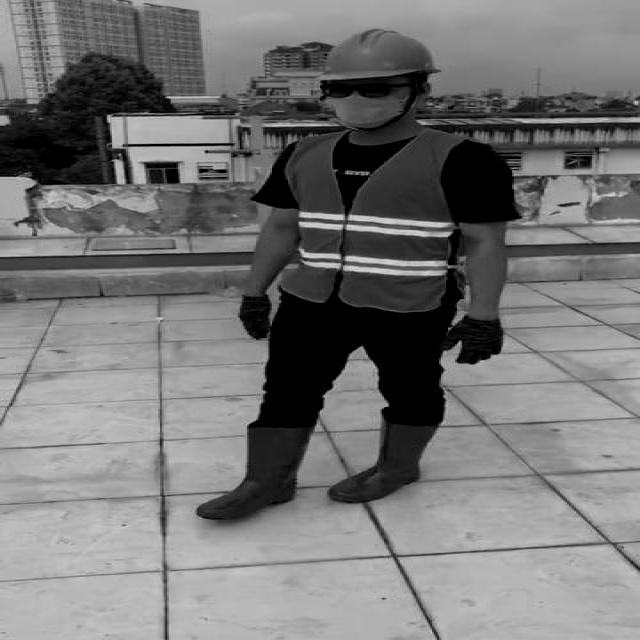boots: (199, 427, 313, 519), (329, 421, 437, 505)
face_mask: (320, 78, 407, 130)
glasses: (316, 80, 394, 100)
hand_glove: (437, 320, 503, 364), (233, 293, 275, 342)
head_helmet: (316, 28, 444, 82)
person: (191, 27, 518, 526)
vest: (284, 129, 462, 312)
